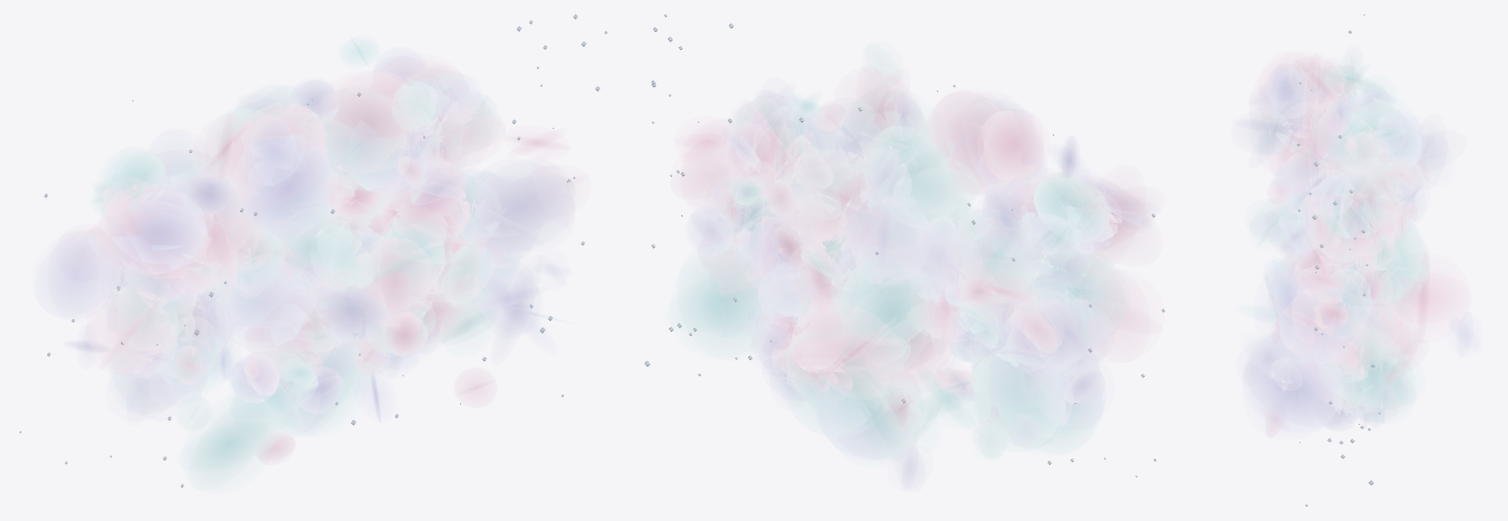
3 views of the same model, side by side, from view 1: azimuth 30°, elevation 25°; view 2: azimuth 150°, elevation 25°; view 3: azimuth 270°, elevation 25° (orthographic). The views are drawn at different scales.
Size of the model in its own units: 5.95 by 4.43 by 2.99.
